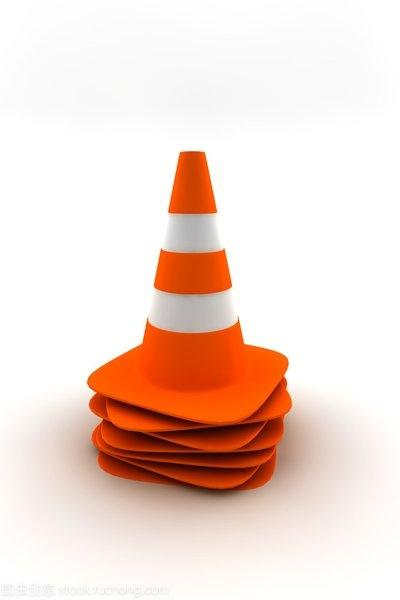cone_barrel: (112, 150, 261, 419)
